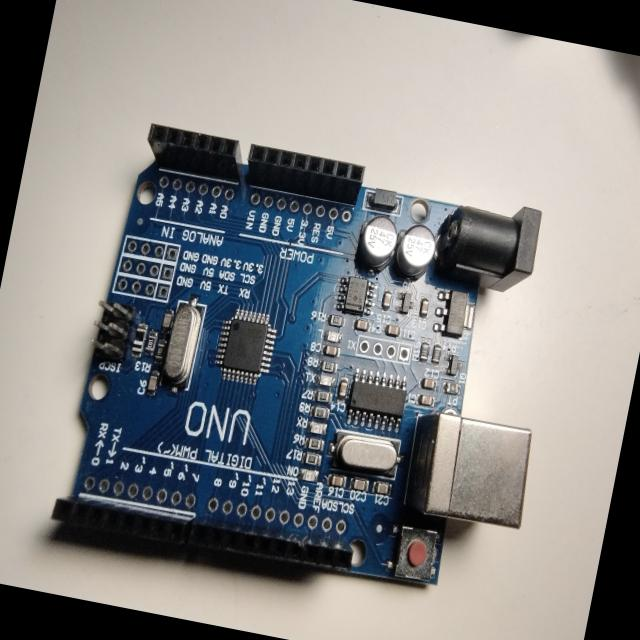arduino: (52, 106, 588, 628)
